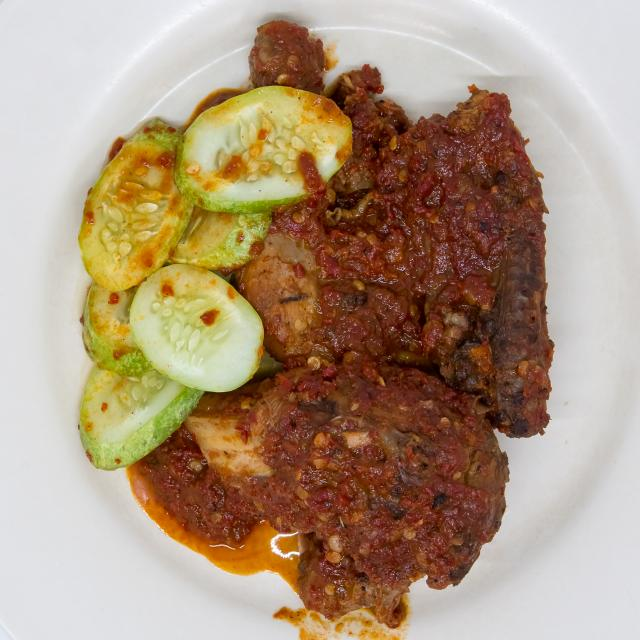Ayam-Bumbu-Rujak: (46, 9, 571, 626)
